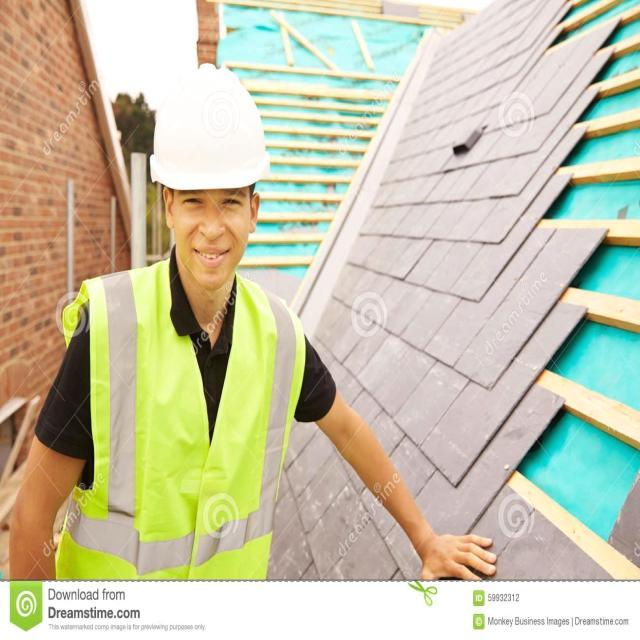face_nomask: (168, 193, 256, 285)
hand_noglove: (400, 518, 502, 592)
head_helmet: (153, 67, 261, 186)
person: (26, 42, 353, 575)
vest: (67, 269, 290, 570)
